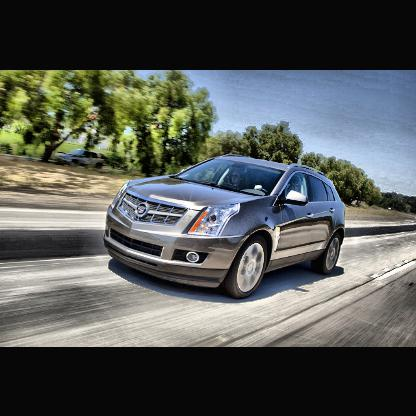Cadillac SRX SUV 2012: (104, 155, 347, 301)
